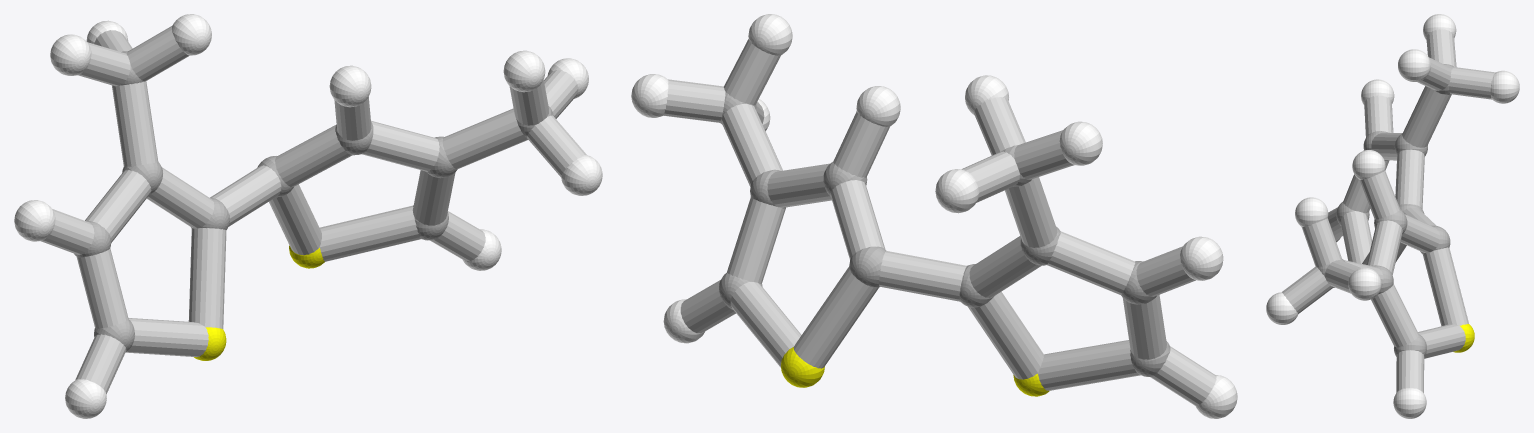
The model's file is Methylthiophene_Phi_40_Theta_230_Methylthiophene.glb.
The picture shows the model from 3 angles, left to right: view 1: azimuth 30°, elevation 25°; view 2: azimuth 150°, elevation 25°; view 3: azimuth 270°, elevation 25°; orthographic projection. The views are drawn at different scales.
Visible parts, largest first — view 1: grp7965, grp3621, grp1, grp7241; view 2: grp7965, grp3621, grp1, grp7241; view 3: grp7965, grp3621, grp1, grp7241.
Part boxes in pixels (bbox=[...]): grp7965: bbox=[40, 26, 586, 394]; grp3621: bbox=[14, 14, 602, 418]; grp1: bbox=[74, 51, 553, 351]; grp7241: bbox=[194, 245, 324, 360]; grp7965: bbox=[663, 39, 1216, 406]; grp3621: bbox=[631, 14, 1237, 418]; grp1: bbox=[719, 92, 1170, 376]; grp7241: bbox=[781, 347, 1049, 396]; grp7965: bbox=[1282, 29, 1495, 392]; grp3621: bbox=[1266, 14, 1519, 418]; grp1: bbox=[1317, 64, 1453, 356]; grp7241: bbox=[1453, 324, 1474, 352].
Bounding box in the file's own units: 9.29 × 5.09 × 4.57.
